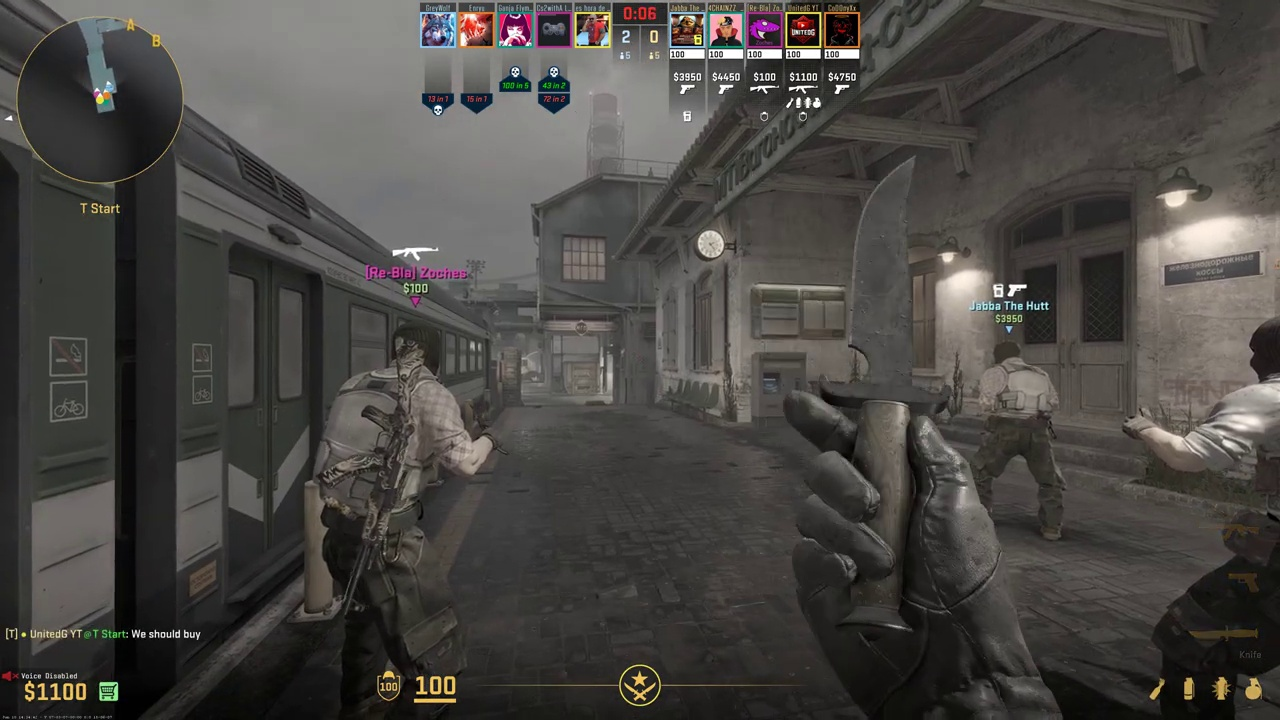Terrorist: (316, 319, 471, 719), (1158, 318, 1280, 720), (975, 340, 1066, 538)
